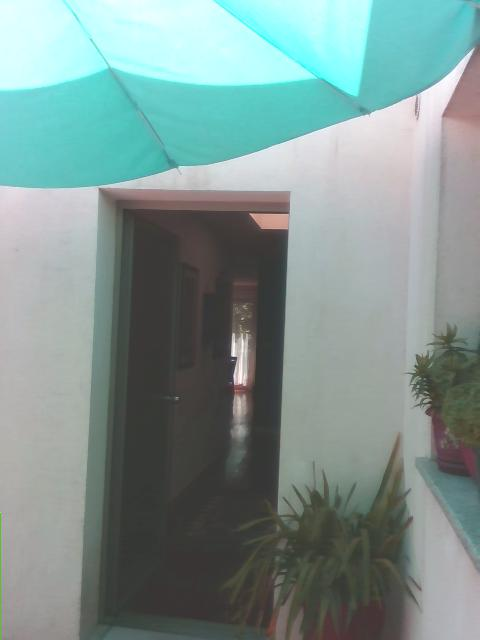open_door: (79, 189, 290, 639)
